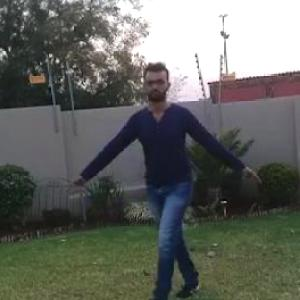land: (76, 64, 259, 299)
